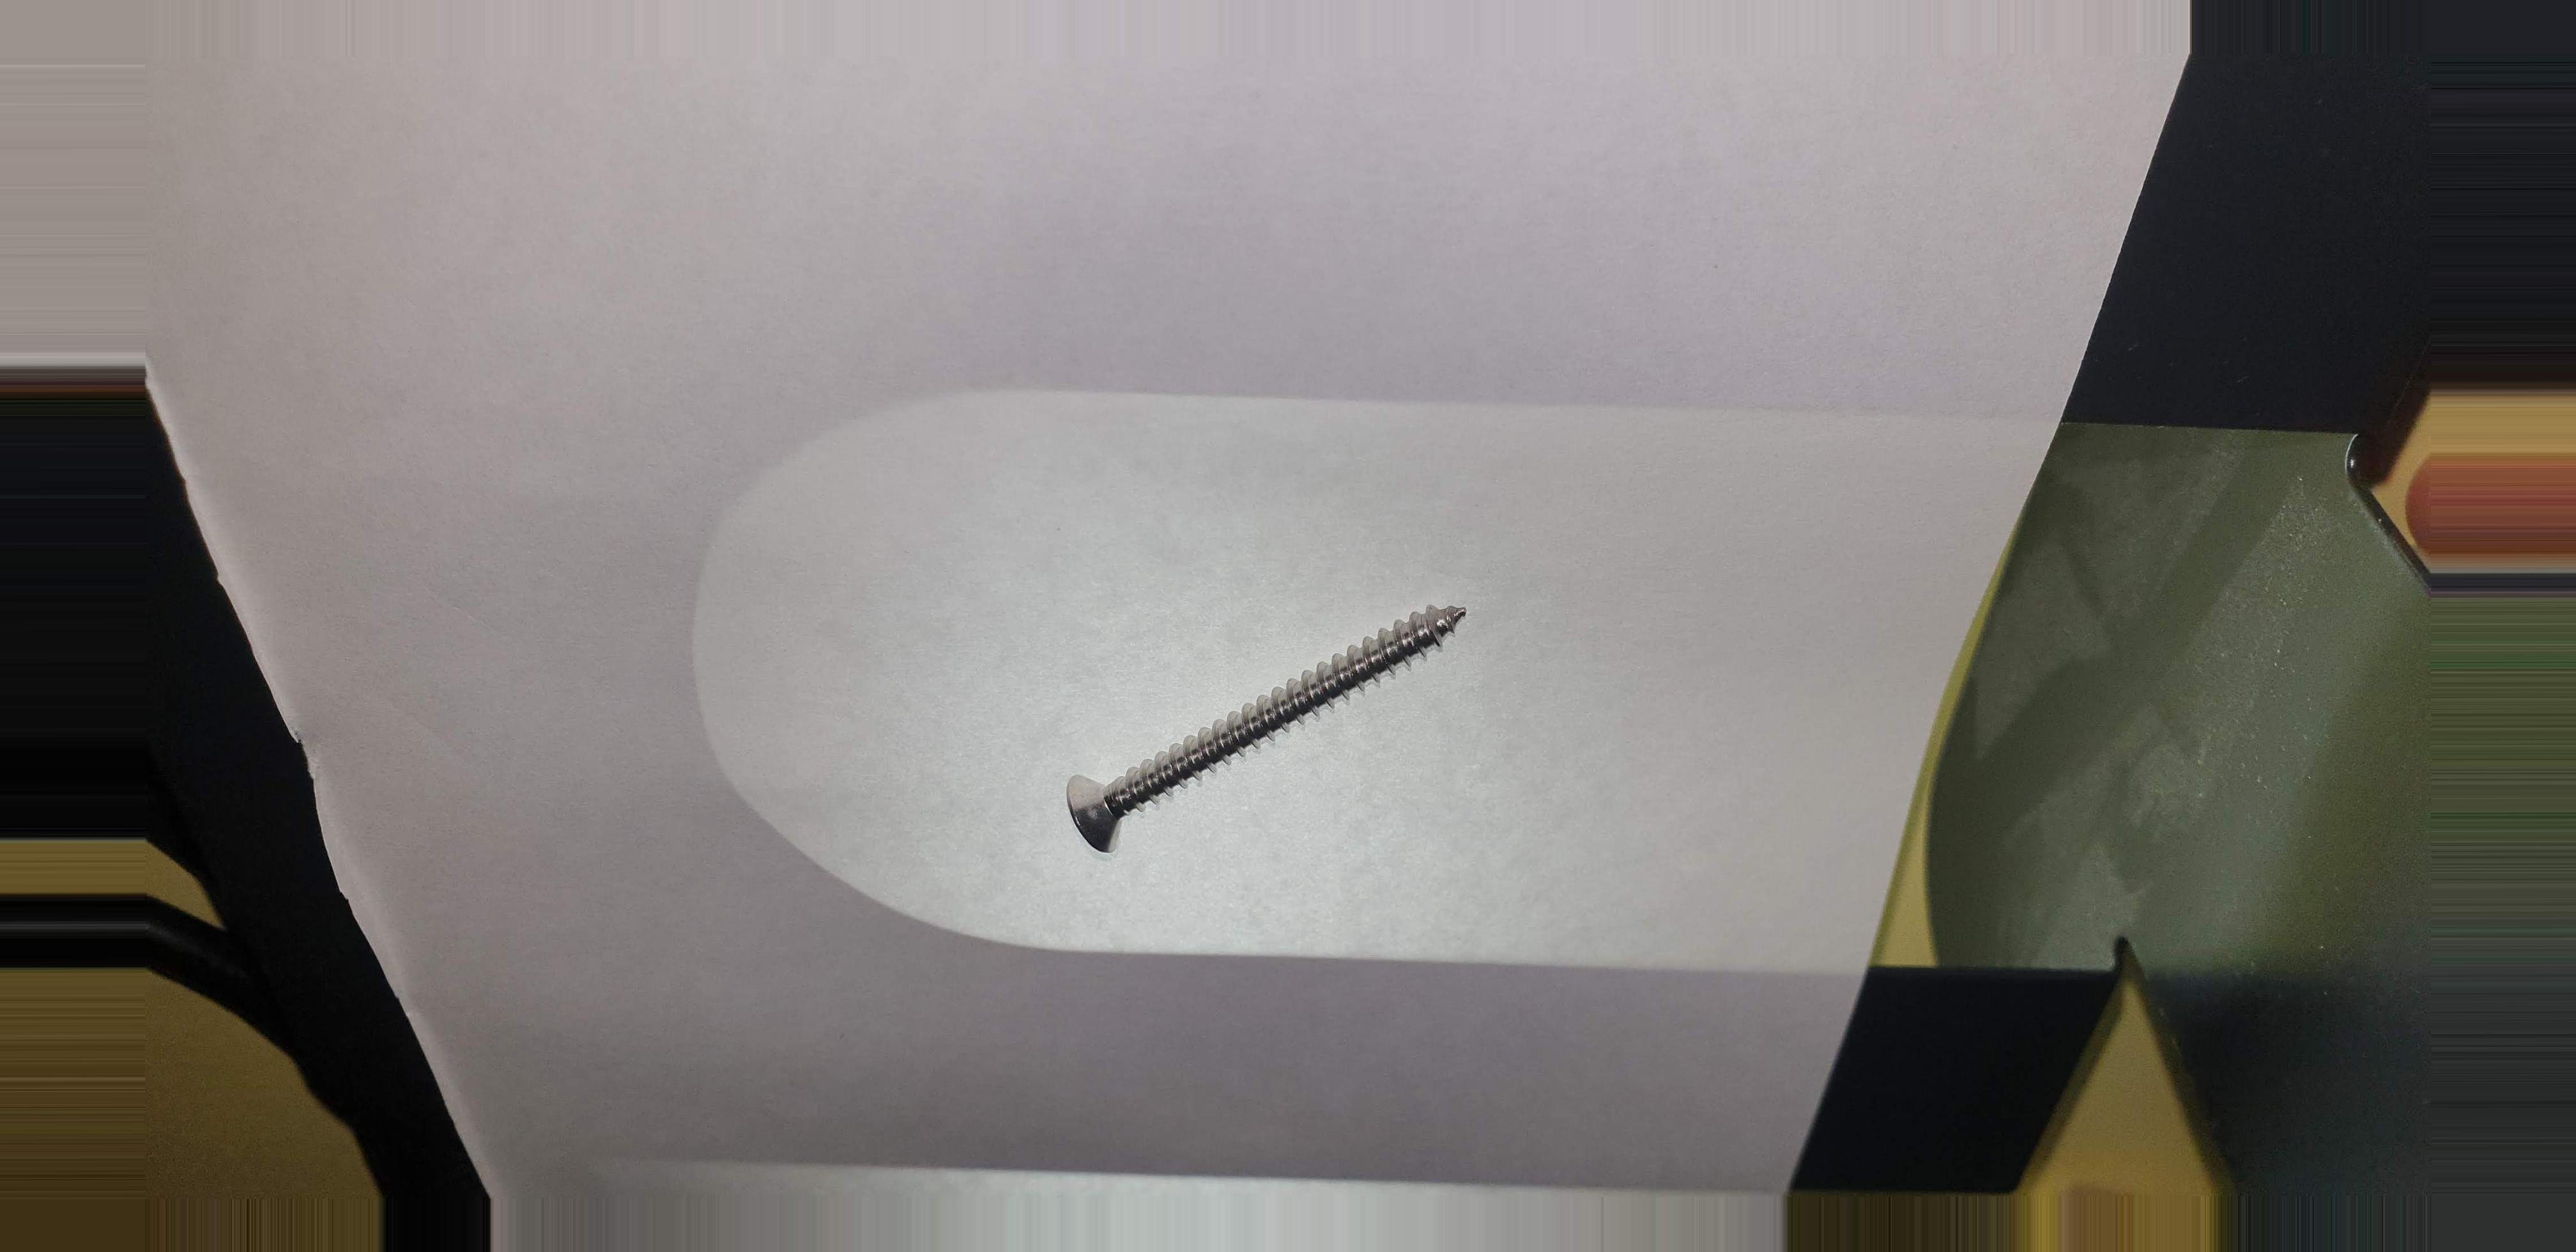fastener: (1020, 567, 1495, 877)
